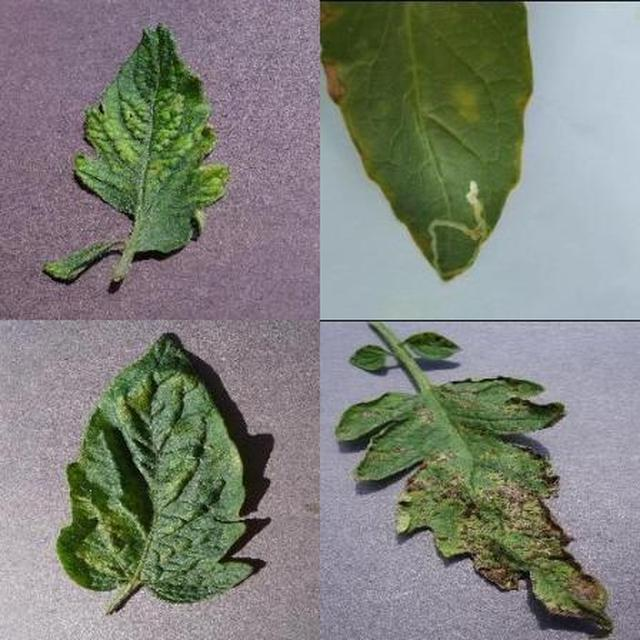Mosaic Virus Leaf: (108, 63, 640, 640)
